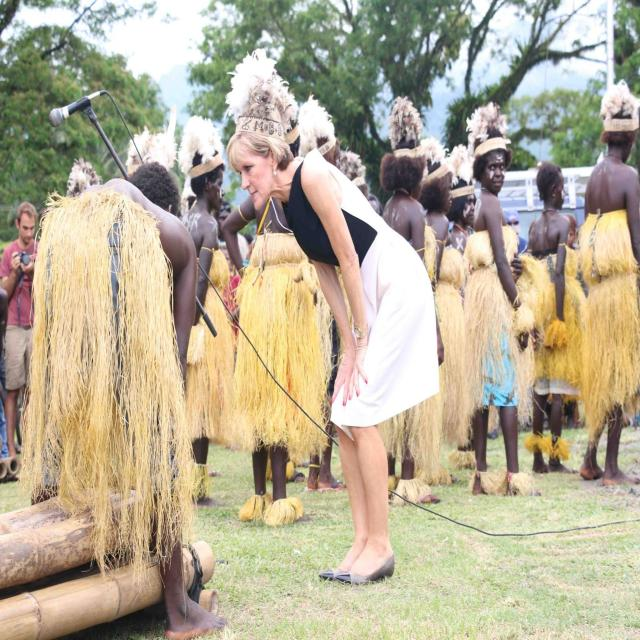body: (218, 43, 443, 590), (18, 158, 230, 640), (264, 306, 640, 494), (218, 85, 332, 532), (50, 105, 256, 259), (460, 101, 534, 498), (379, 95, 447, 506), (574, 76, 640, 487), (518, 157, 582, 479), (179, 112, 228, 509), (286, 65, 386, 221), (0, 200, 40, 459), (446, 173, 478, 452), (418, 139, 458, 298), (507, 204, 585, 272), (0, 277, 23, 492), (216, 198, 250, 274)
